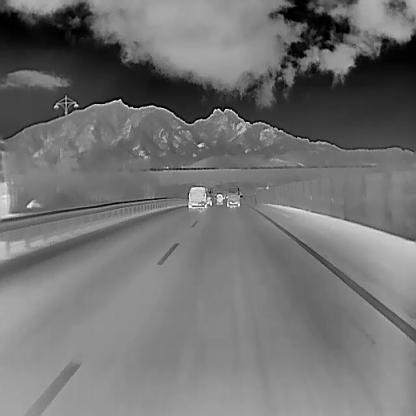car: (187, 184, 206, 209), (225, 184, 240, 207), (206, 195, 212, 206)
truck: (215, 192, 223, 204)
